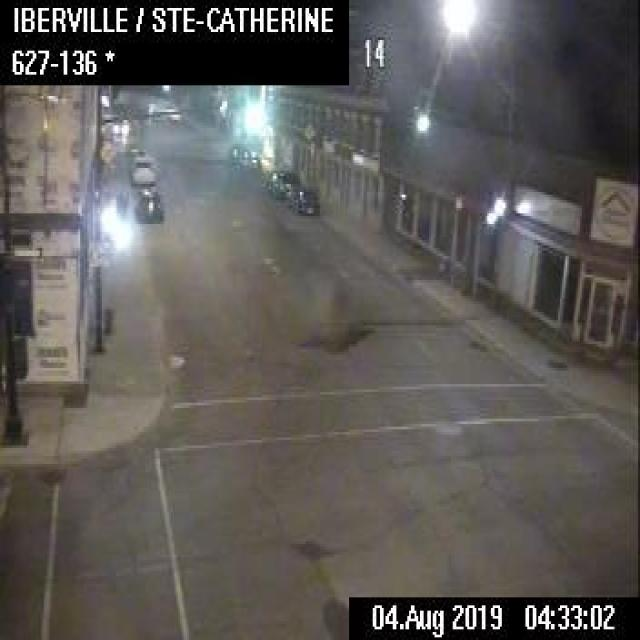vehicle: (135, 186, 165, 224), (289, 183, 320, 217), (265, 166, 297, 198), (128, 152, 154, 184)
